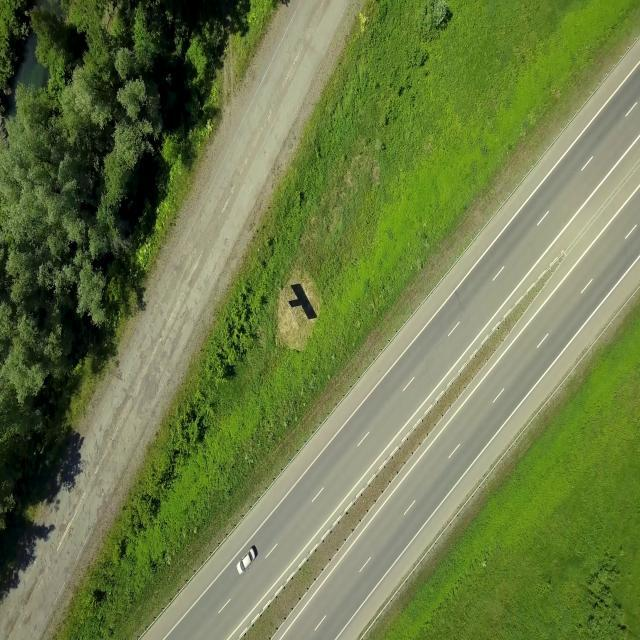vehicle: (236, 546, 256, 574)
